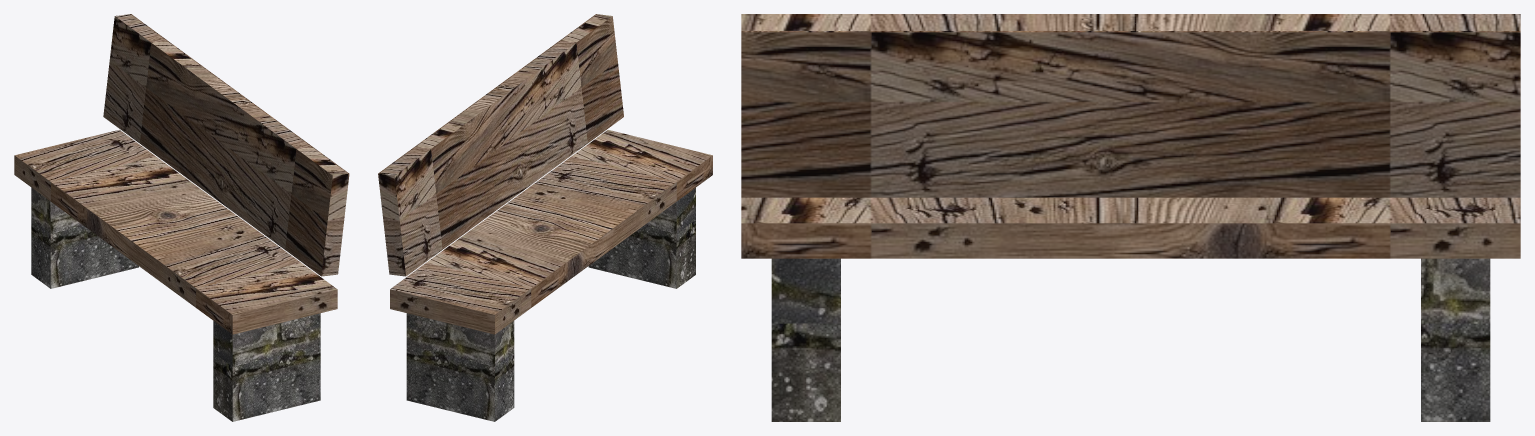
Rendered from banco.glb.
3 views of the same model, side by side, from view 1: azimuth 30°, elevation 25°; view 2: azimuth 150°, elevation 25°; view 3: azimuth 270°, elevation 25° (orthographic). The views are drawn at different scales.
Visible parts, largest first — view 1: pieza; view 2: pieza; view 3: pieza.
Boxes of the visible parts, x1,y1,x2,y2 form: pieza: (14,14,349,421); pieza: (378,14,712,421); pieza: (741,14,1520,421).
Size of the model in its own units: 0.557 by 1.05 by 1.8.
2 materials, 2 textured.
